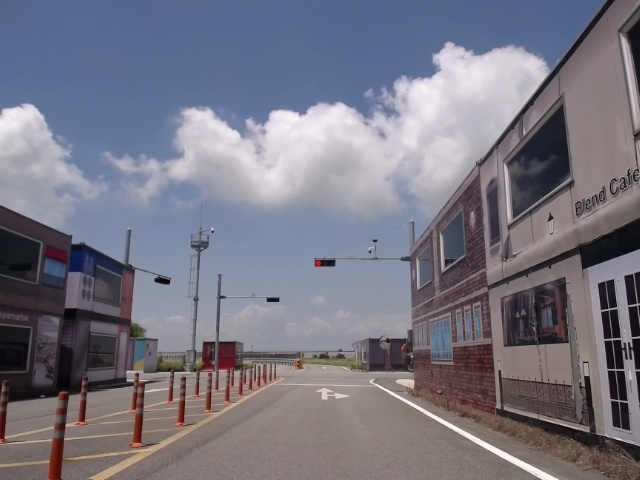red_3: (312, 258, 337, 268)
